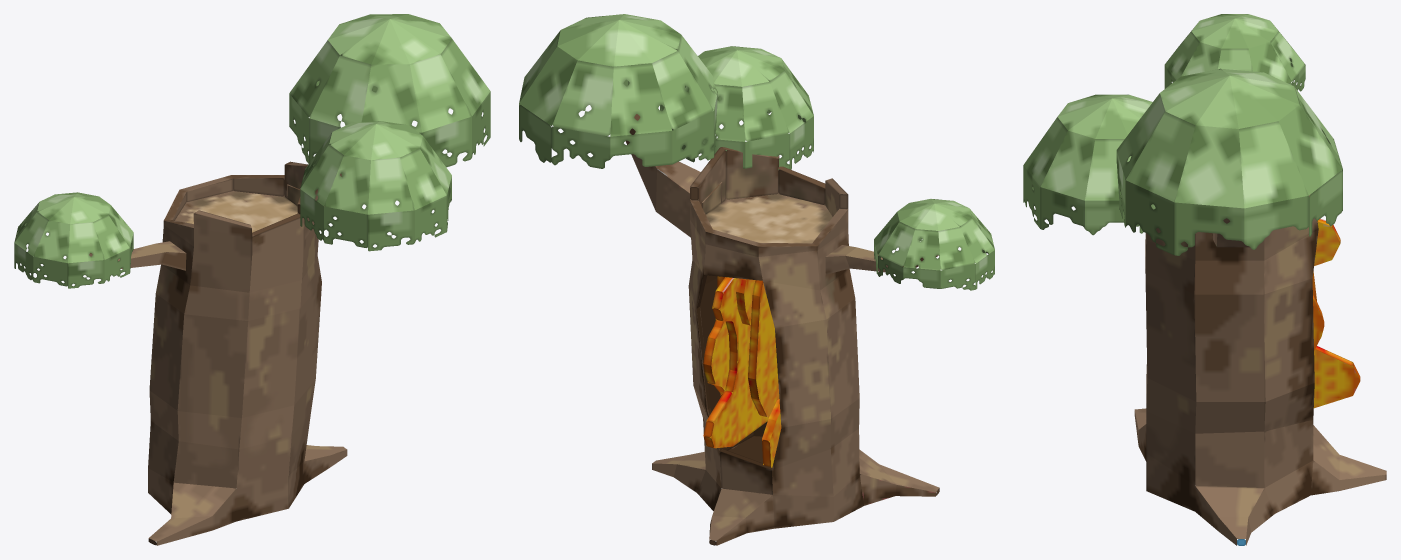
The model's file is Hive.fbx.
3 renders of one model, left to right at view 1: azimuth 30°, elevation 25°; view 2: azimuth 150°, elevation 25°; view 3: azimuth 270°, elevation 25°, orthographic. The views are drawn at different scales.
Visible parts, largest first — view 1: base, leaves3, leaves1, leaves2, branch1; view 2: base, leaves3, leaves1, leaves2, comb2, comb4, branch2, comb1, branch1, comb6, comb3; view 3: base, leaves3, leaves1, leaves2, comb2.
Boxes of the visible parts, bbox=[...] form: base: bbox=[148, 161, 347, 545]; leaves3: bbox=[289, 14, 490, 167]; leaves1: bbox=[300, 121, 451, 251]; leaves2: bbox=[14, 192, 133, 288]; branch1: bbox=[89, 241, 186, 270]; base: bbox=[652, 147, 939, 545]; leaves3: bbox=[519, 14, 719, 168]; leaves1: bbox=[660, 46, 813, 169]; leaves2: bbox=[874, 199, 994, 290]; comb2: bbox=[703, 277, 768, 448]; comb4: bbox=[748, 280, 779, 416]; branch2: bbox=[625, 114, 722, 237]; comb1: bbox=[703, 276, 729, 396]; branch1: bbox=[825, 245, 938, 274]; comb6: bbox=[762, 399, 781, 467]; comb3: bbox=[736, 278, 755, 325]; base: bbox=[1134, 194, 1386, 545]; leaves3: bbox=[1116, 68, 1342, 255]; leaves1: bbox=[1023, 94, 1155, 235]; leaves2: bbox=[1164, 14, 1305, 91]; comb2: bbox=[1313, 218, 1360, 408].
Bounding box in the file's own units: 357 × 330 × 217.
Materials: 2 (2 with a texture image).
